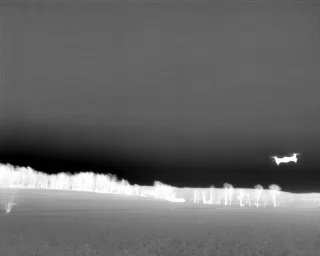DRONE: (266, 148, 305, 170)
